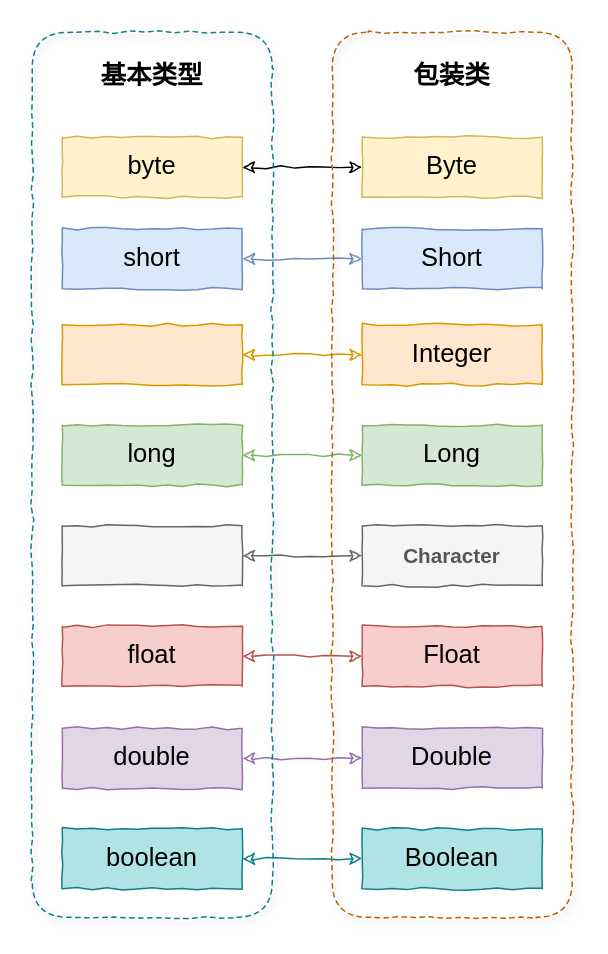
Image size: 608x954. Some labels were removed from this diagram. The centre of each missing label's shape, as x and y in pixels:
char: [151,555]
int: [151,354]
